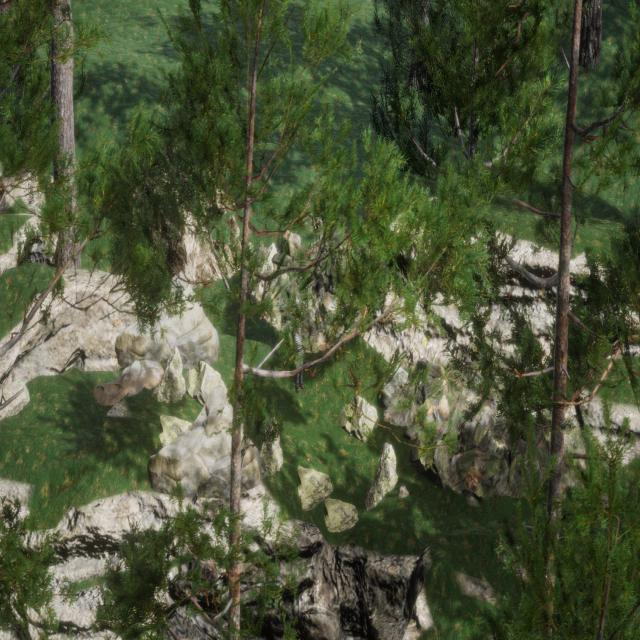Human: (287, 310, 306, 396)
